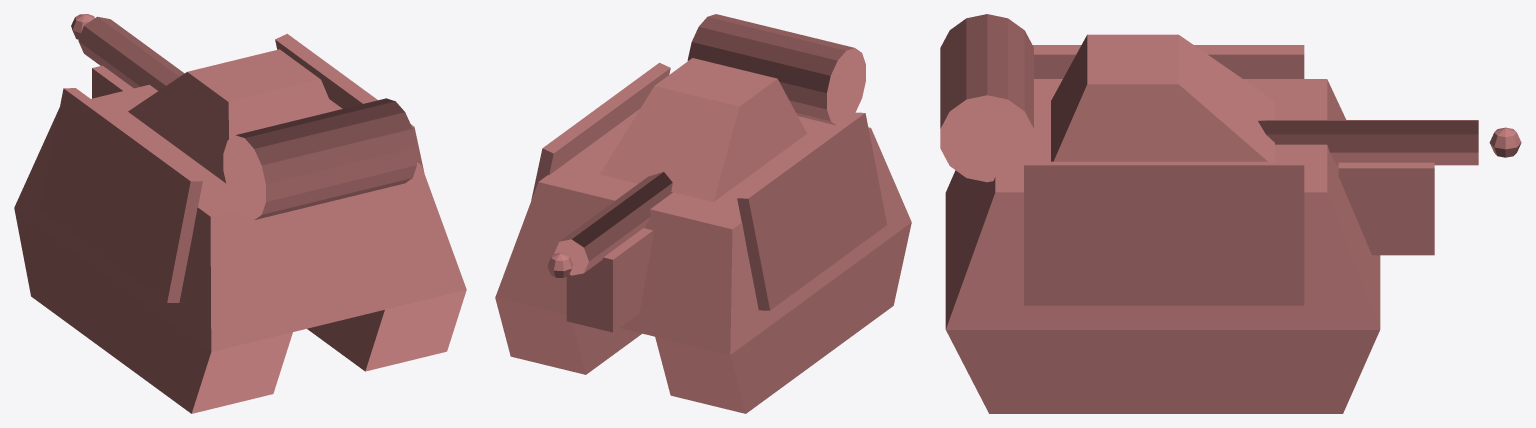
3 views of the same model, side by side, from view 1: azimuth 30°, elevation 25°; view 2: azimuth 150°, elevation 25°; view 3: azimuth 270°, elevation 25° (orthographic). The views are drawn at different scales.
Visible parts, largest first — view 1: x3ds_Box01, x3ds_Box07, x3ds_Box03, x3ds_Cylinder01, x3ds_Box05, x3ds_Box02, x3ds_Cylinder02, x3ds_Box06, x3ds_Box04; view 2: x3ds_Box01, x3ds_Box05, x3ds_Box07, x3ds_Box03, x3ds_Cylinder01, x3ds_Box02, x3ds_Box04, x3ds_Cylinder02, x3ds_Box06, x3ds_Sphere01; view 3: x3ds_Box06, x3ds_Box01, x3ds_Box02, x3ds_Box05, x3ds_Cylinder01, x3ds_Cylinder02, x3ds_Box04, x3ds_Box07, x3ds_Sphere01.
Part boxes in pixels (left/top/right/bottom): x3ds_Box01: left=14, top=84, right=466, bottom=351; x3ds_Box07: left=40, top=88, right=202, bottom=302; x3ds_Box03: left=14, top=208, right=292, bottom=413; x3ds_Cylinder01: left=223, top=98, right=416, bottom=220; x3ds_Box05: left=128, top=49, right=333, bottom=183; x3ds_Box02: left=307, top=290, right=466, bottom=371; x3ds_Cylinder02: left=78, top=16, right=184, bottom=90; x3ds_Box06: left=275, top=33, right=424, bottom=172; x3ds_Box04: left=92, top=65, right=133, bottom=98; x3ds_Box01: left=495, top=109, right=911, bottom=354; x3ds_Box05: left=600, top=58, right=806, bottom=201; x3ds_Box07: left=737, top=112, right=886, bottom=310; x3ds_Box03: left=655, top=222, right=911, bottom=413; x3ds_Cylinder01: left=687, top=14, right=865, bottom=125; x3ds_Box02: left=495, top=298, right=641, bottom=374; x3ds_Box04: left=566, top=228, right=653, bottom=332; x3ds_Cylinder02: left=554, top=172, right=672, bottom=275; x3ds_Box06: left=531, top=62, right=670, bottom=199; x3ds_Sphere01: left=547, top=253, right=573, bottom=277; x3ds_Box06: left=1024, top=161, right=1304, bottom=305; x3ds_Box01: left=945, top=79, right=1380, bottom=329; x3ds_Box02: left=946, top=330, right=1379, bottom=413; x3ds_Box05: left=1051, top=34, right=1274, bottom=161; x3ds_Cylinder01: left=940, top=14, right=1033, bottom=182; x3ds_Cylinder02: left=1258, top=120, right=1478, bottom=165; x3ds_Box04: left=1338, top=162, right=1434, bottom=255; x3ds_Box07: left=1033, top=45, right=1304, bottom=78; x3ds_Sphere01: left=1489, top=127, right=1521, bottom=157.
Bounding box in the file's own units: 43.05 × 40.04 × 72.56.
